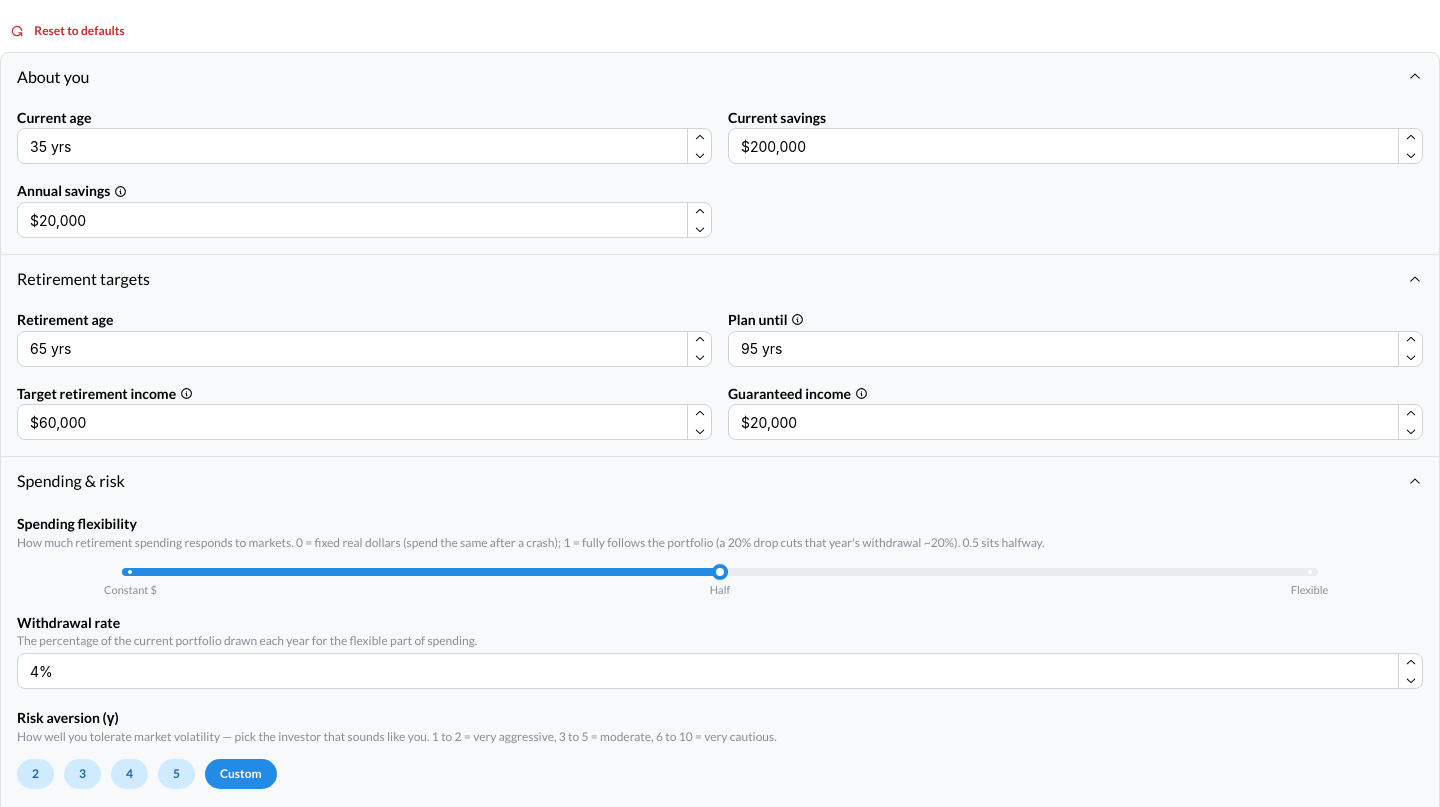
Test: glide-path InputForm guidance › places a custom risk-aversion input in a selected popover
The image size is (1440, 807).
Click the button "Custom".
click(241, 774)  # box [205,759,277,789]
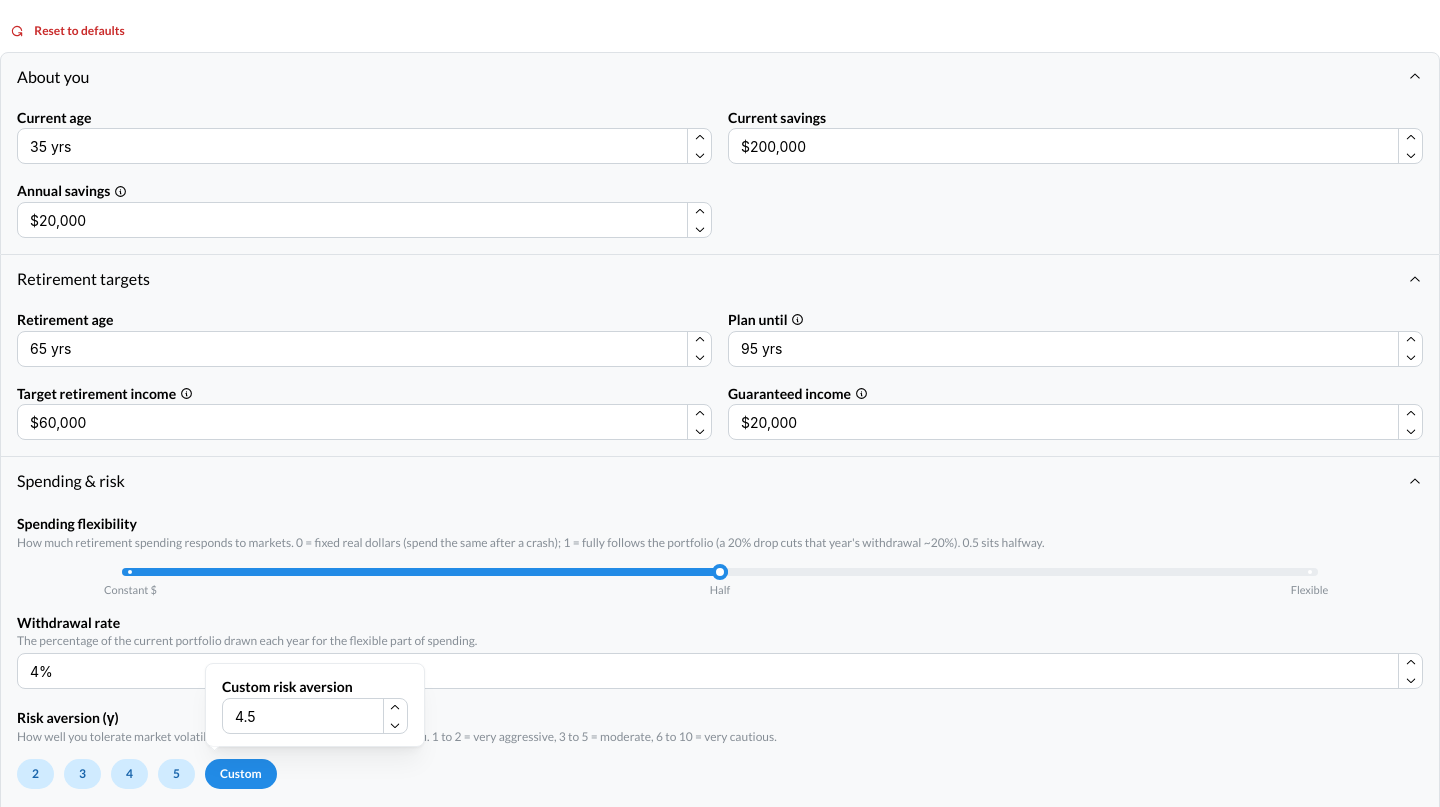
Now the field labelled "Custom risk aversion" holds "4.5", box [222,698,408,734]
